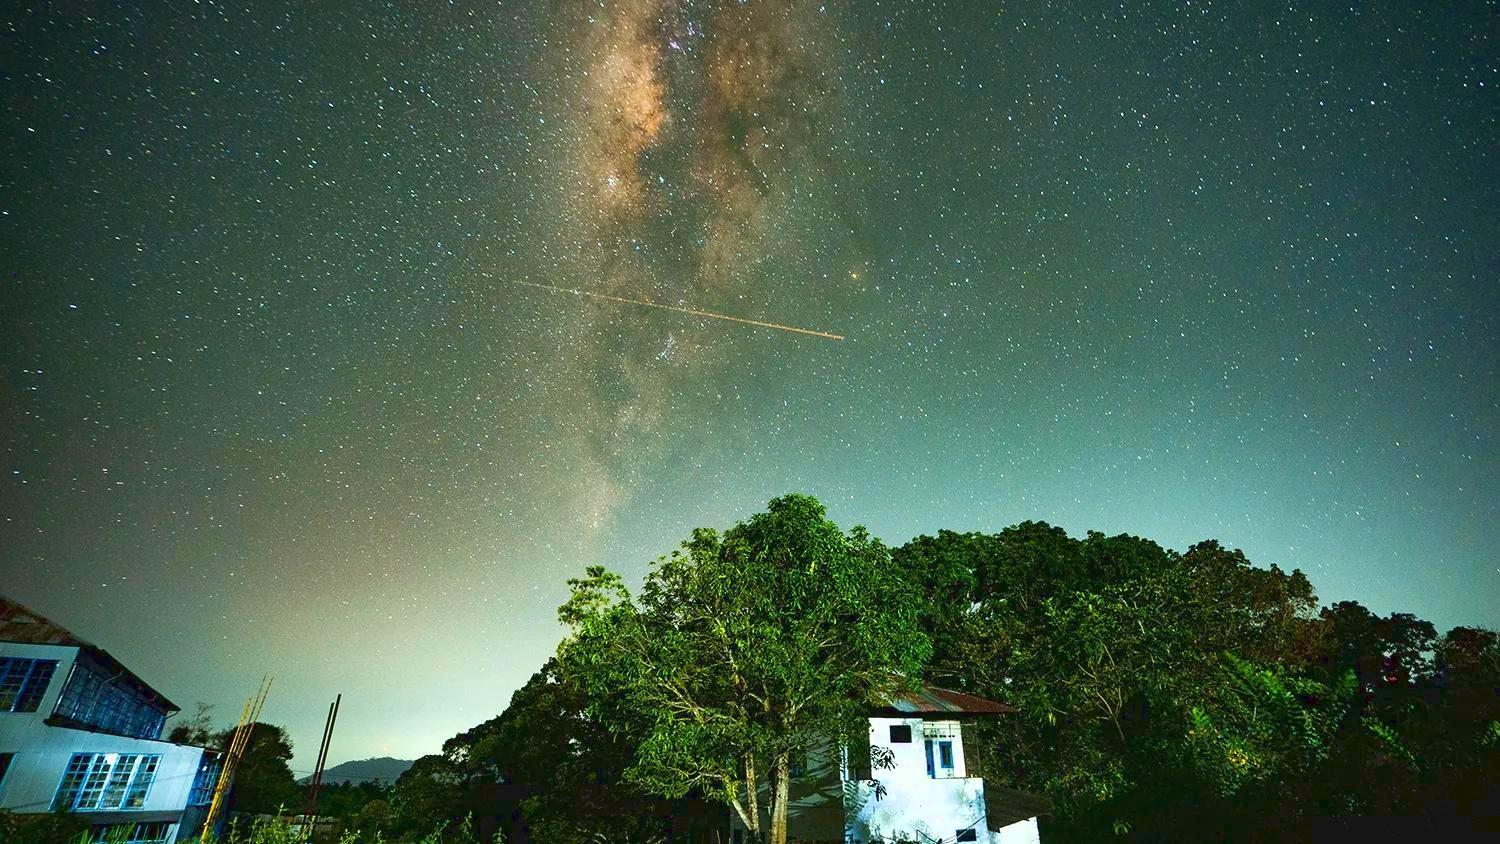meteorite: (668, 302, 862, 345)
